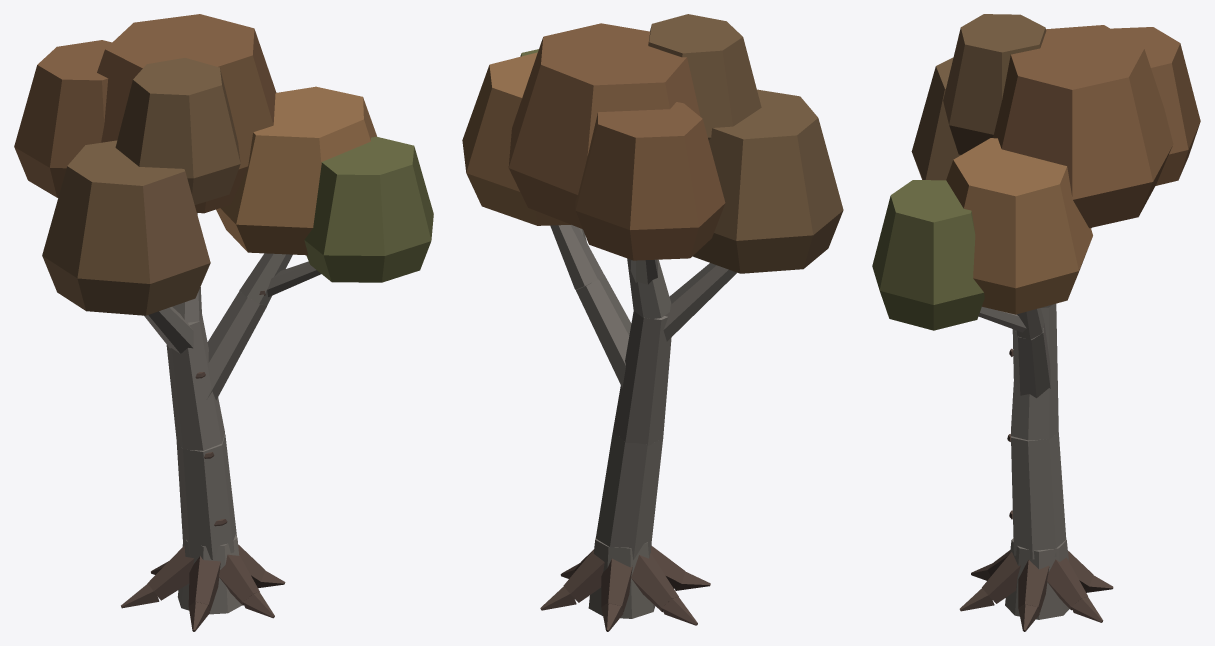
Rendered from copper-beech-healthy.glb.
The picture shows the model from 3 angles, left to right: view 1: azimuth 30°, elevation 25°; view 2: azimuth 150°, elevation 25°; view 3: azimuth 270°, elevation 25°; orthographic projection. The views are drawn at different scales.
Visible parts, largest first — view 1: Copper beech · healthy; view 2: Copper beech · healthy; view 3: Copper beech · healthy.
Boxes of the visible parts, left/top/right/bottom form: Copper beech · healthy: left=14, top=14, right=433, bottom=631; Copper beech · healthy: left=462, top=14, right=843, bottom=631; Copper beech · healthy: left=872, top=14, right=1200, bottom=631.
Bounding box in the file's own units: 2.05 × 3.1 × 1.68.
